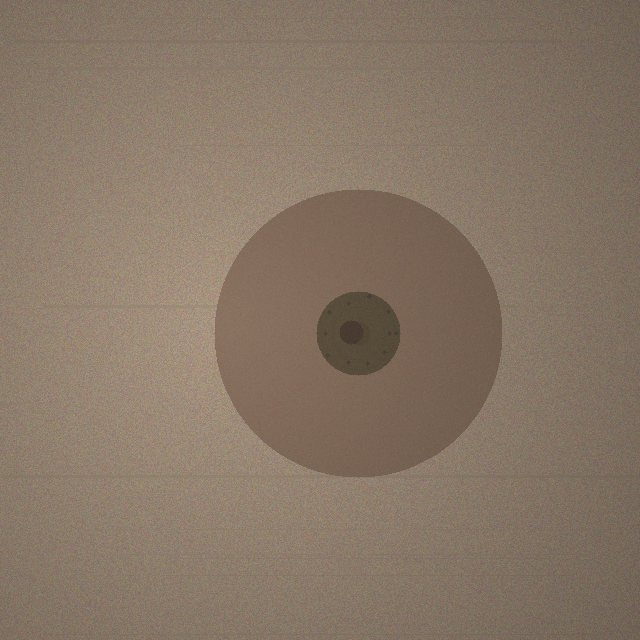cold_weld: (214, 189, 502, 477)
